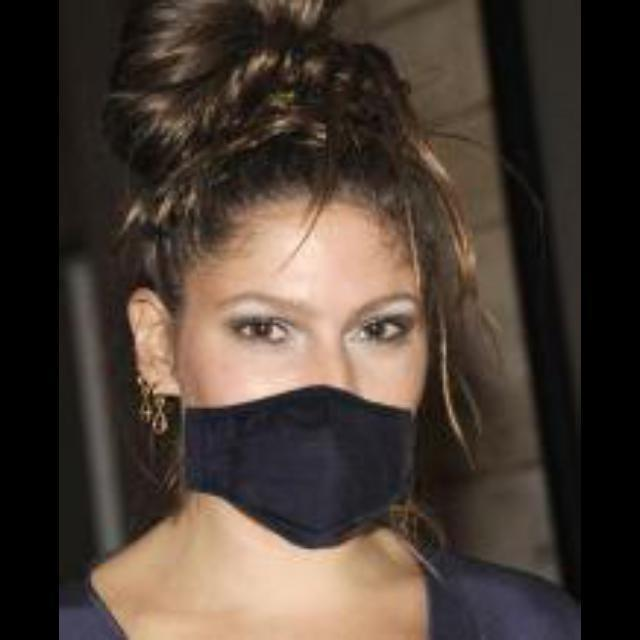suspicion: (143, 149, 471, 539)
